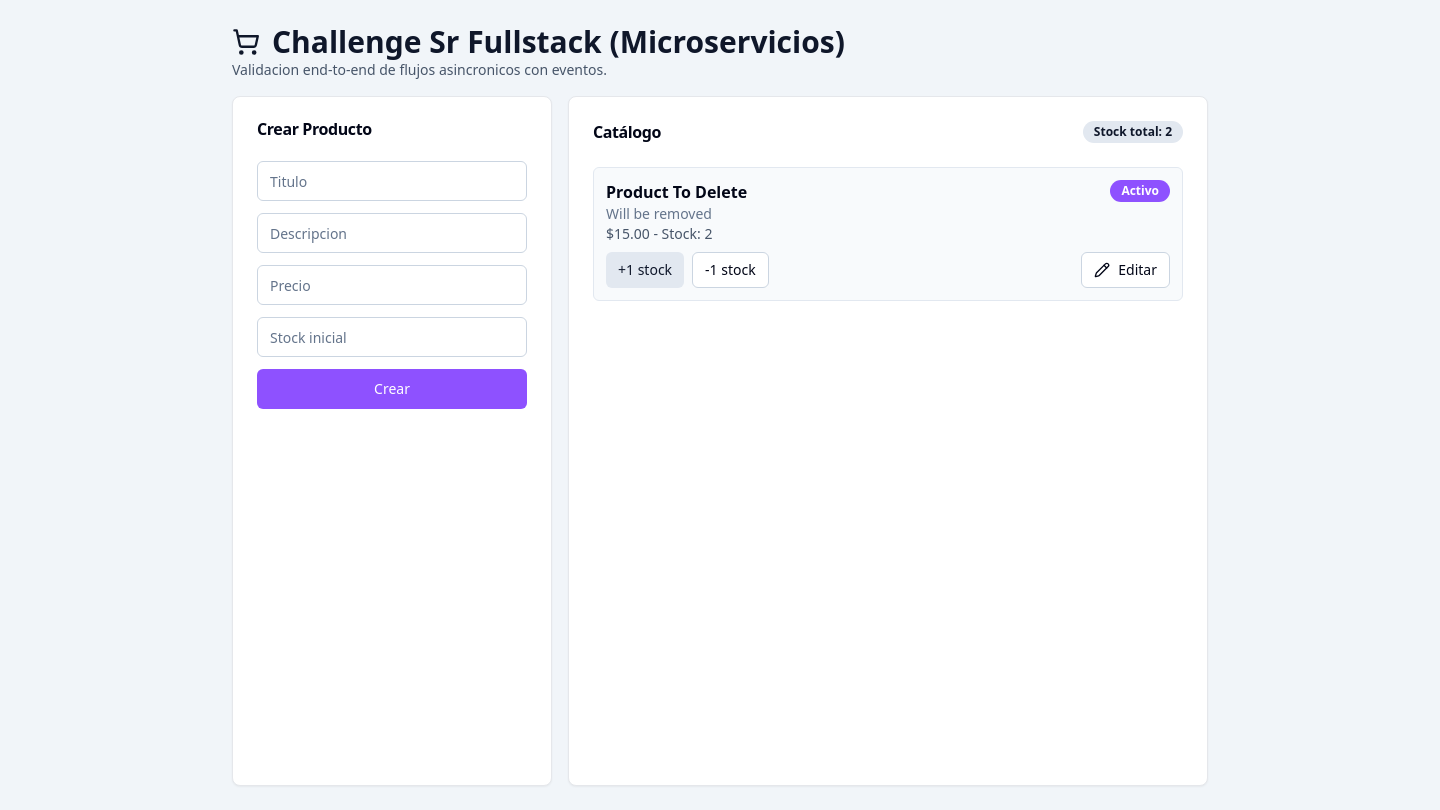
App › opens edit dialog and deletes product from dialog
Check: the heading "Product To Delete" is shown, box x1=606 y1=180 x2=747 y2=204
Click the button with aria-label "Editar Product To Delete" at (1126, 270), box x1=1081 y1=252 x2=1170 y2=288
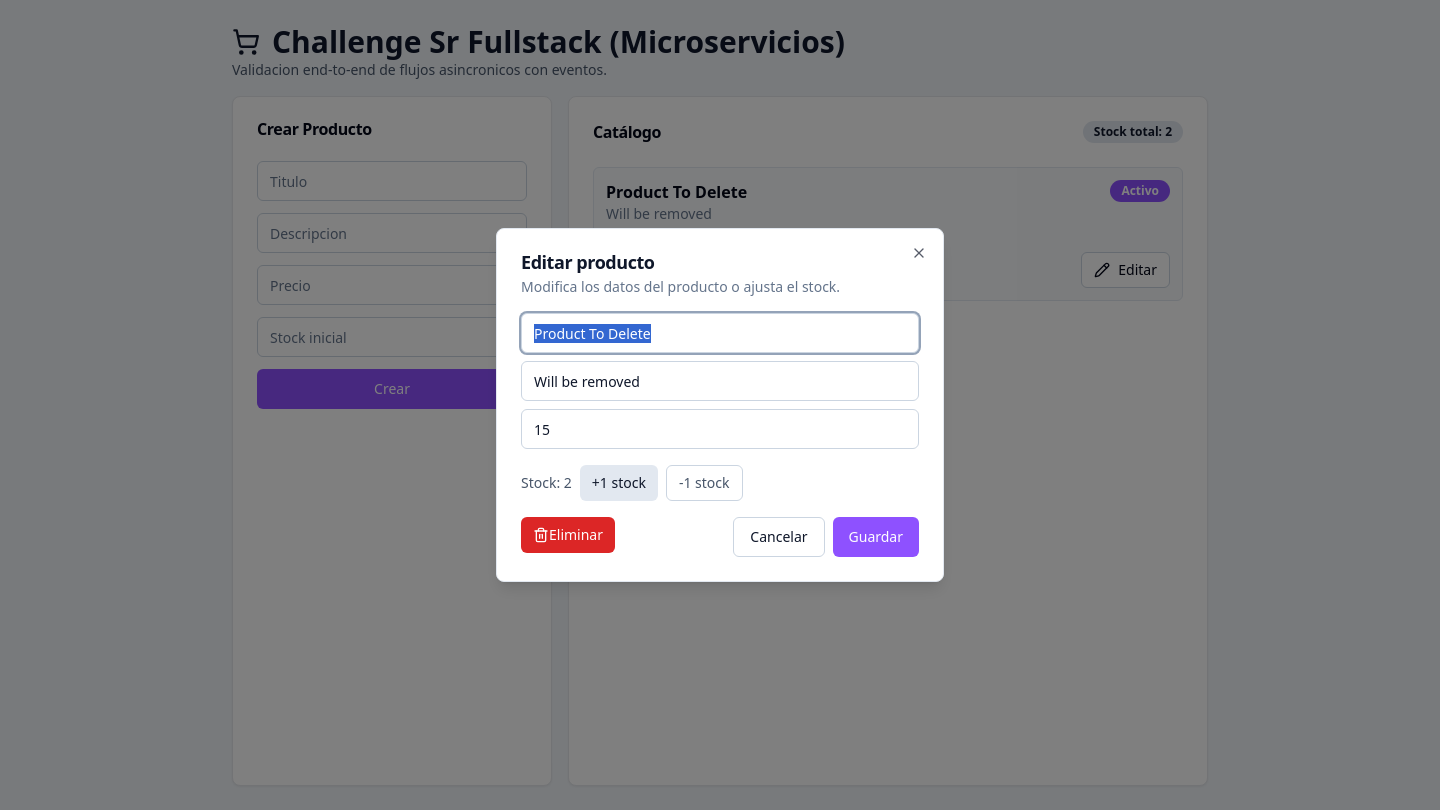
Check: the dialog is shown, box x1=496 y1=228 x2=944 y2=582
Check: the heading "Editar producto" is shown, box x1=521 y1=250 x2=654 y2=274
Click the button "Eliminar" at (568, 535), box x1=521 y1=517 x2=615 y2=553
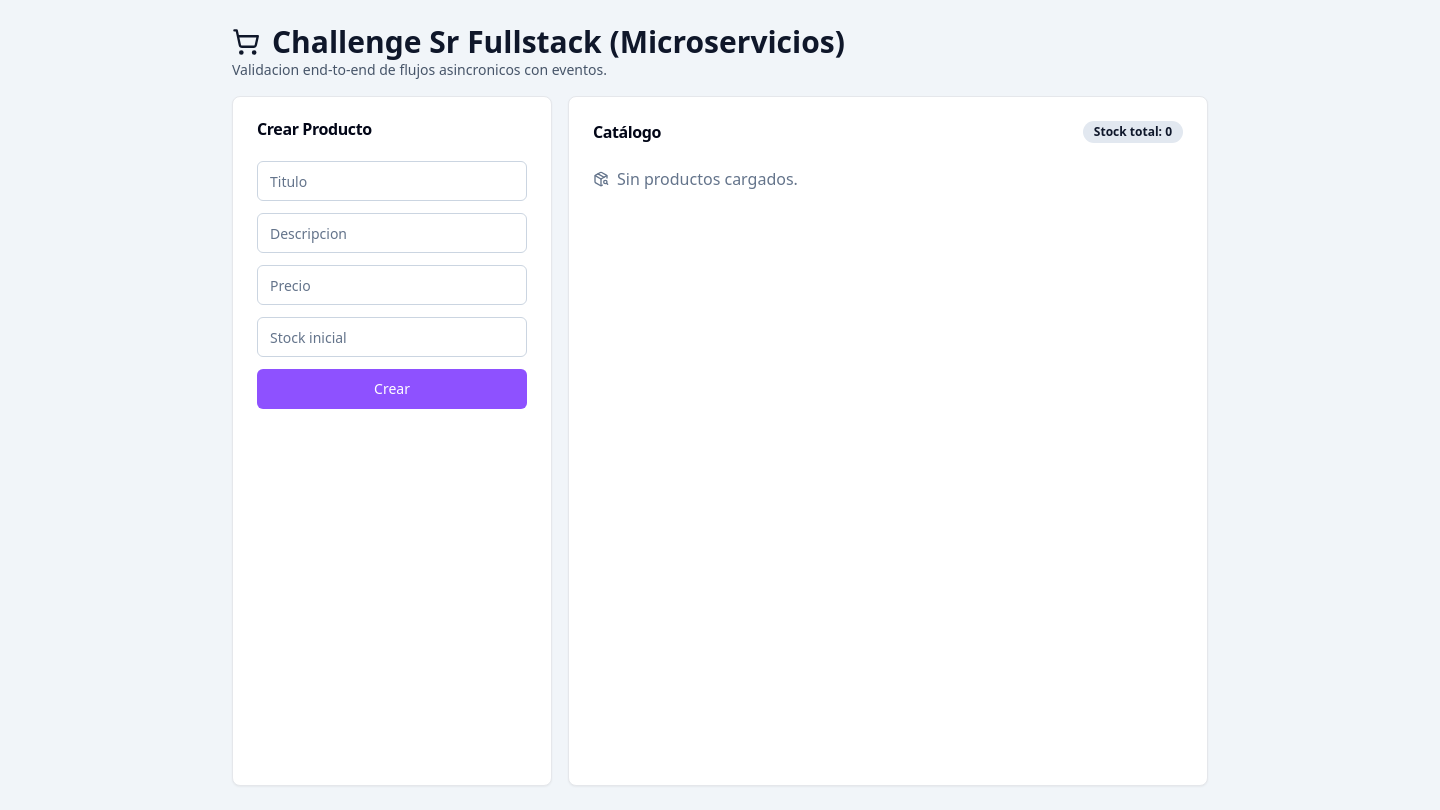
Check: the heading "Product To Delete" is gone
